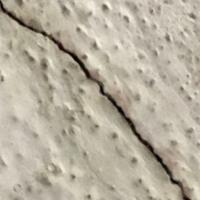crack: (1, 1, 197, 199)
